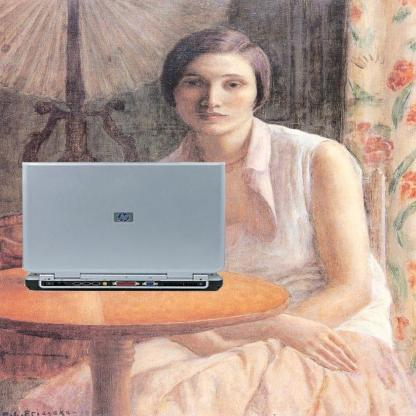board: (16, 158, 235, 303)
